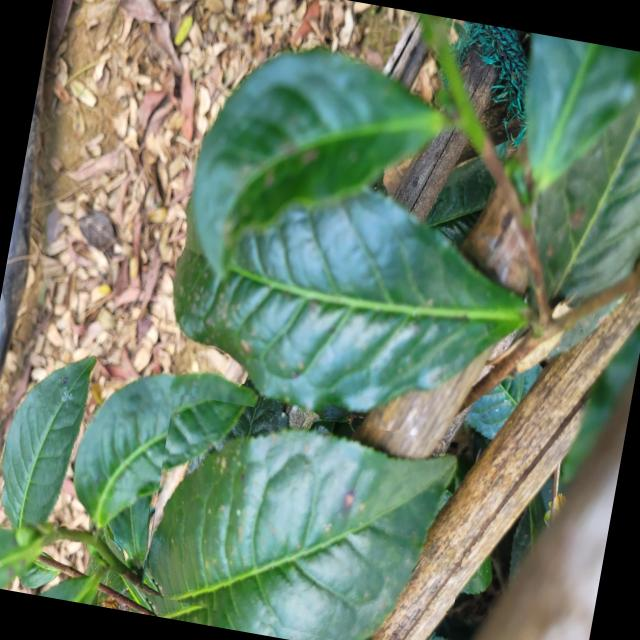Category D(7+ days, Not for Tea): (133, 392, 480, 640)
